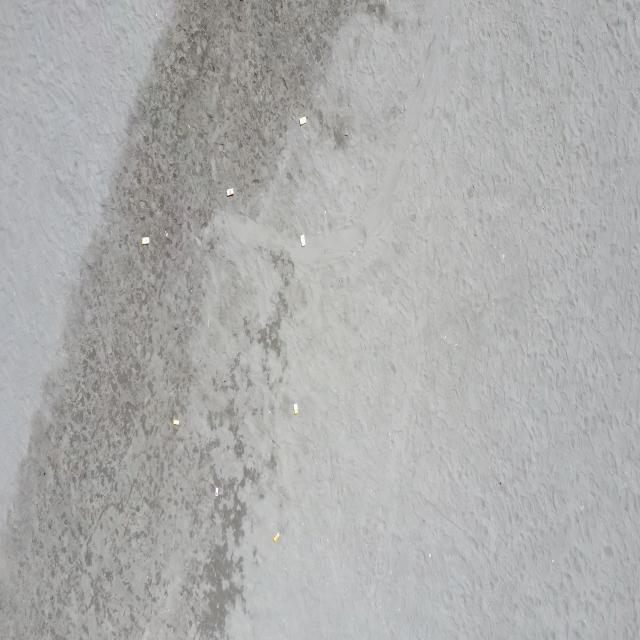Garbage: (272, 532, 280, 542), (172, 417, 179, 427), (292, 403, 298, 413), (140, 236, 148, 243), (213, 487, 220, 495), (226, 187, 232, 196), (300, 233, 304, 246), (299, 116, 306, 123), (164, 230, 167, 236)
